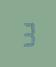three: (19, 20, 35, 46)
